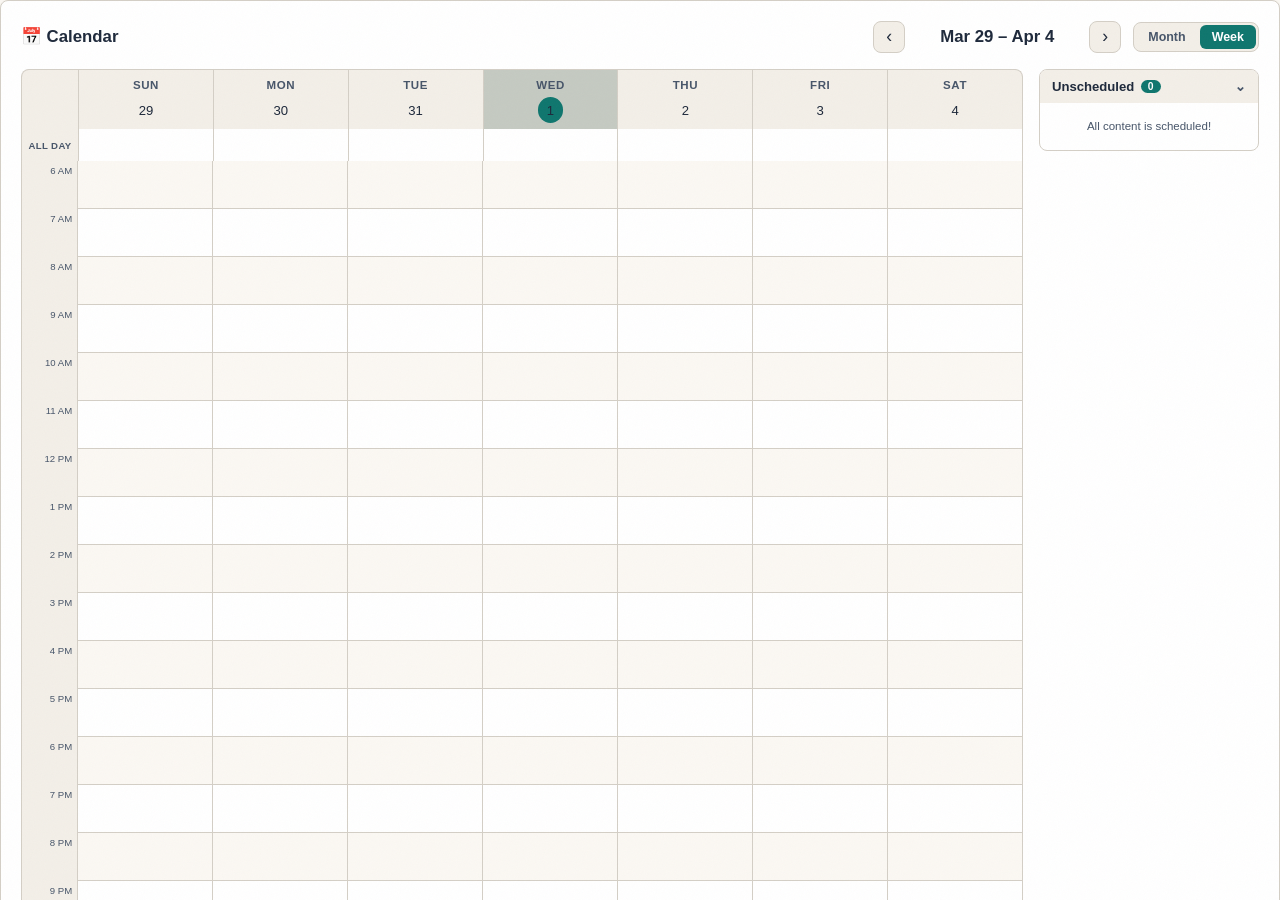
Test: CalendarView – view toggle › switches to month view when Month button is clicked
Step 1. Click the button "Month" → (1167, 37), box left=1136, top=25, right=1198, bottom=49
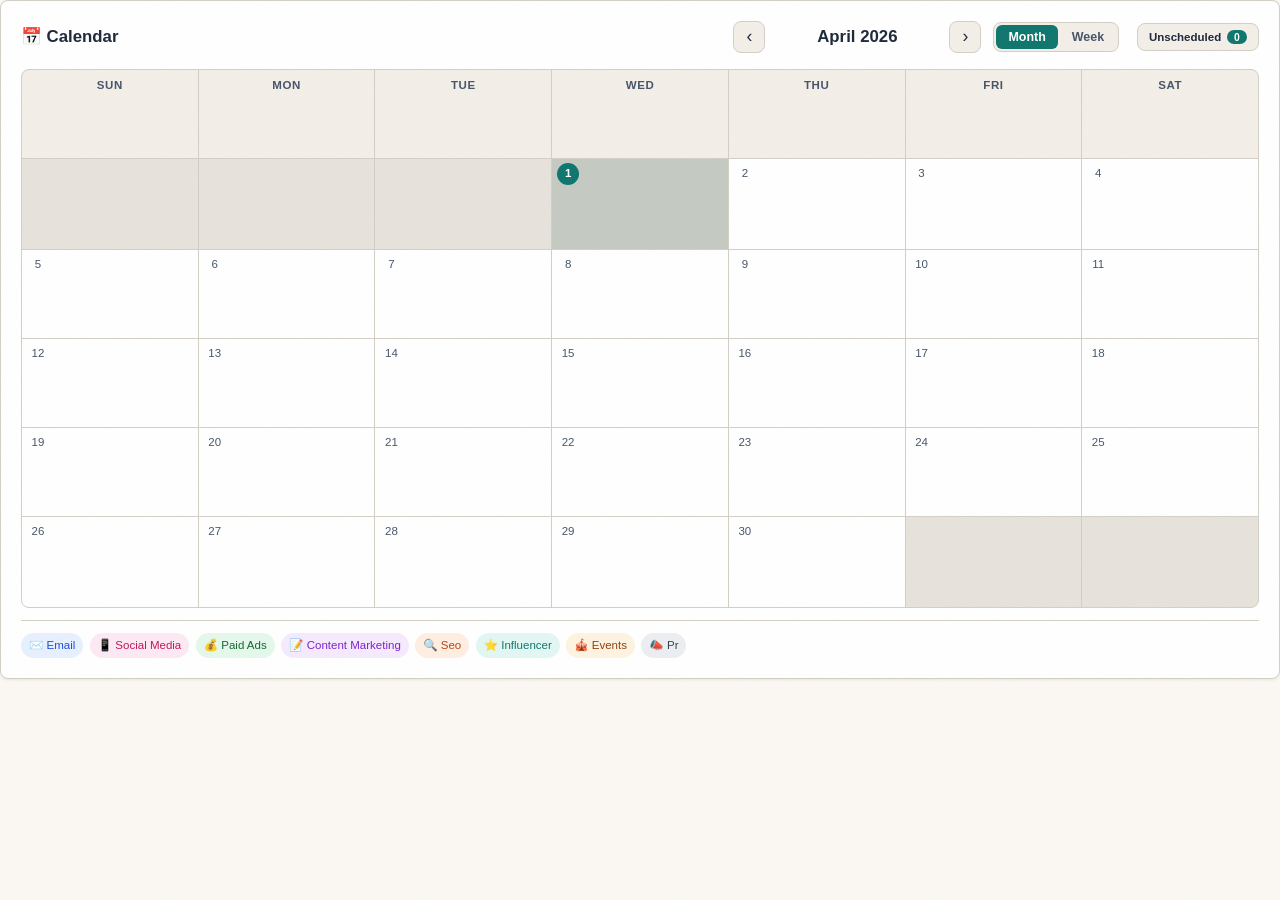
Expected: the text "All Day" is gone
